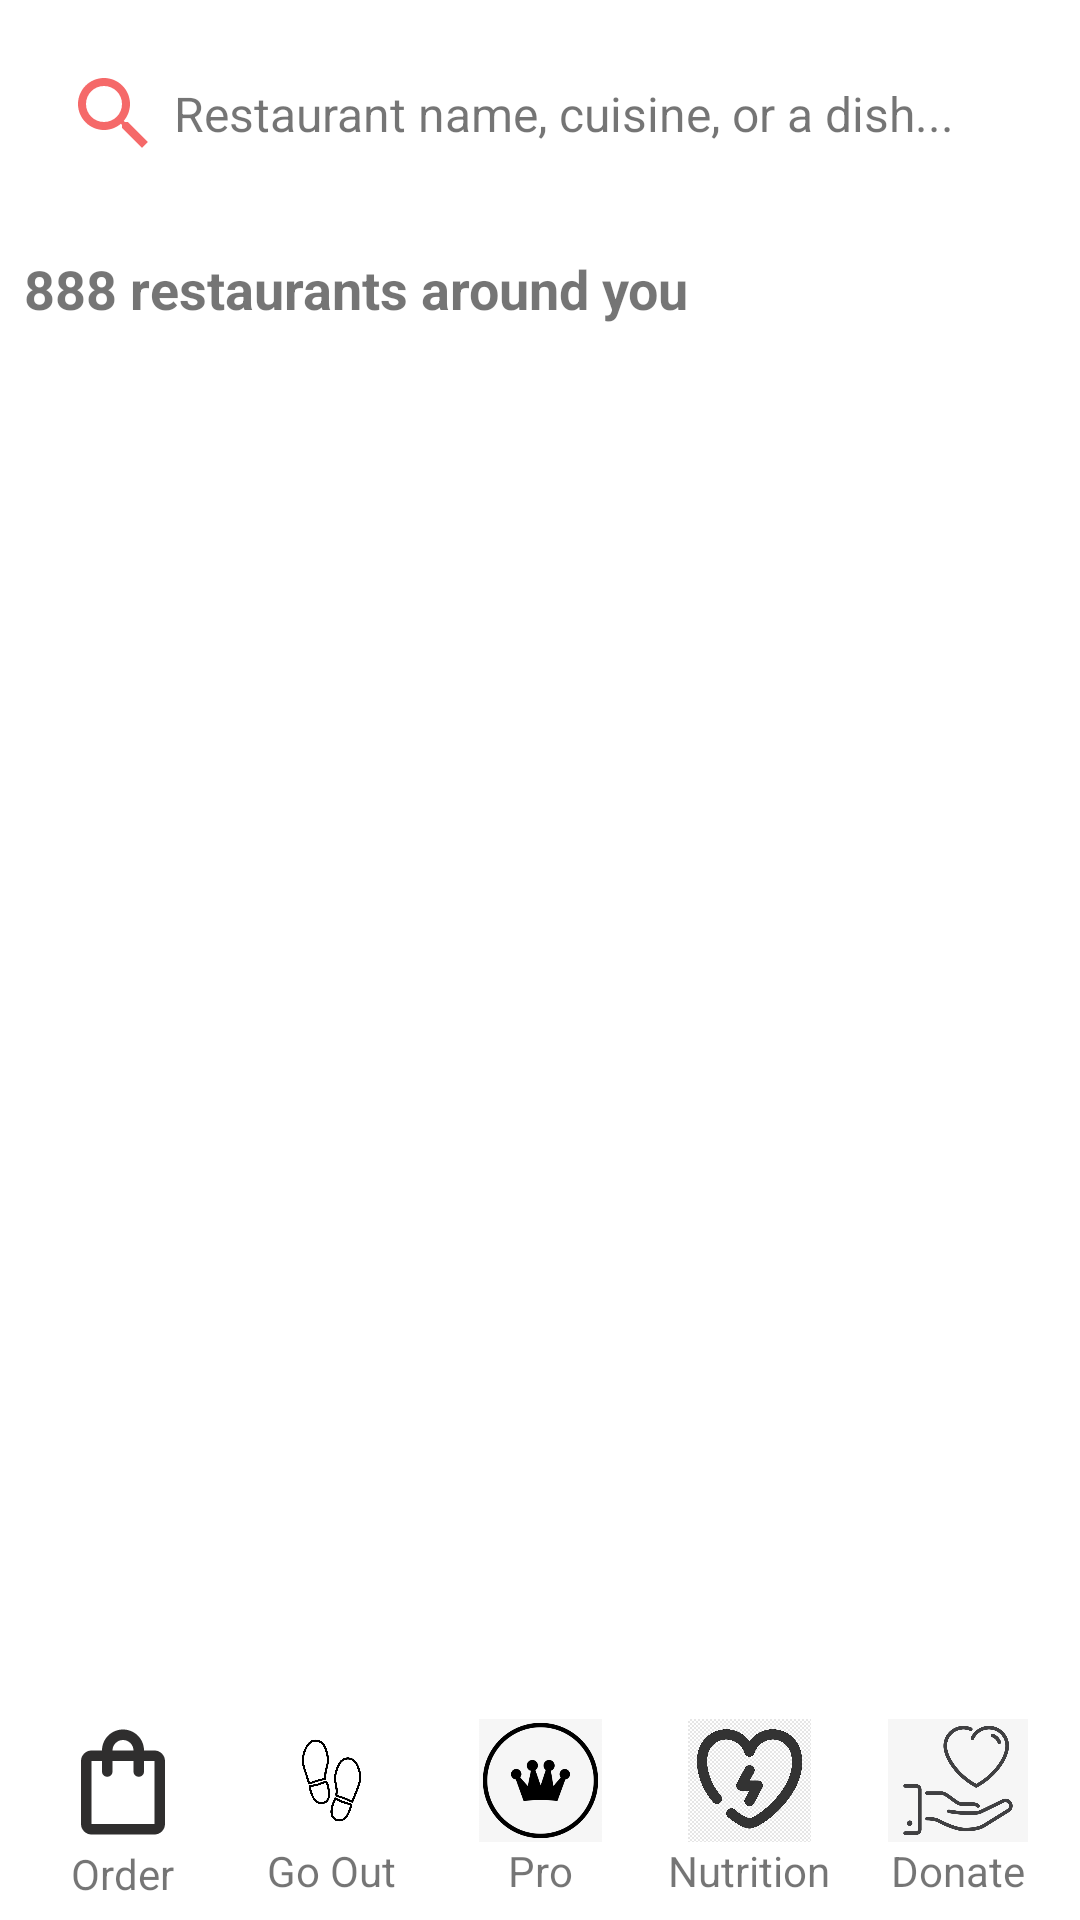

Named icons in this screenshot (1080 x 1920) and their bounding boxes, Rect(x1, y1, x2, y2):
search: Rect(78, 78, 148, 148)
shopping bag: Rect(81, 1729, 165, 1835)
